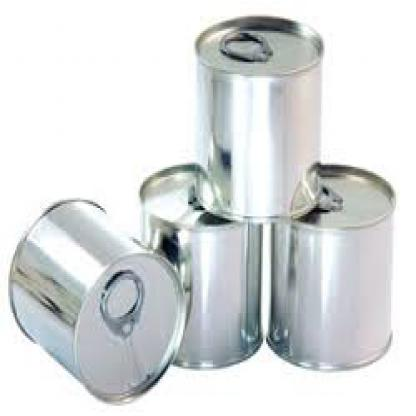METAL: (7, 193, 188, 400), (264, 162, 392, 370), (195, 14, 323, 222), (138, 162, 265, 368)
